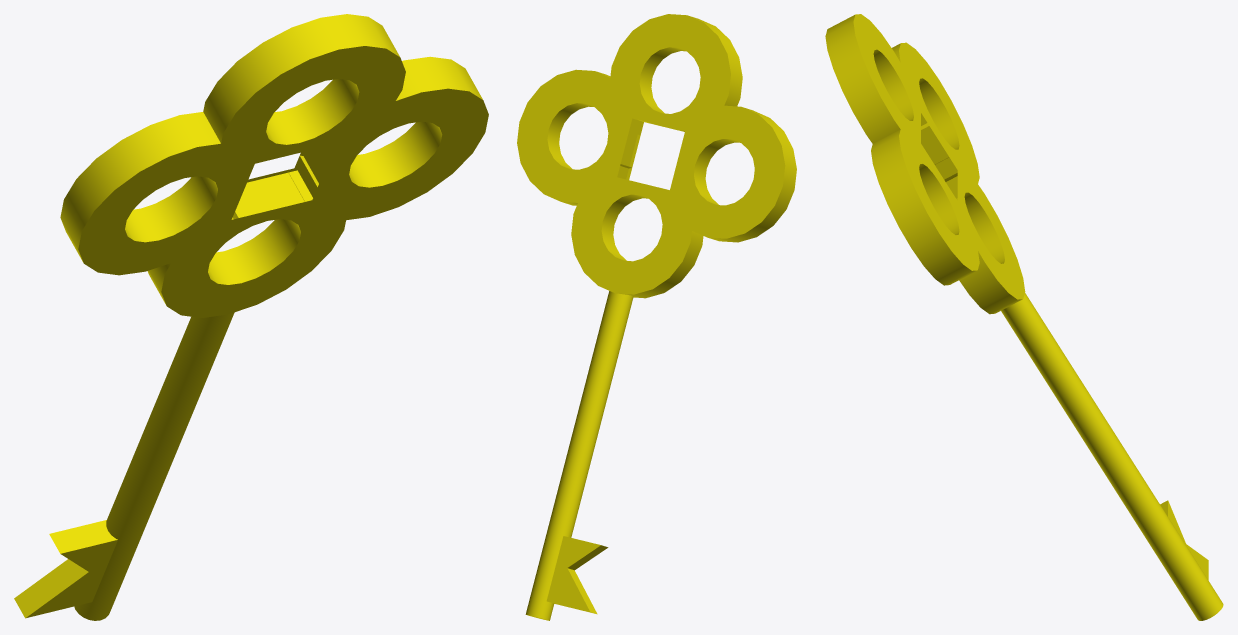
File: Key.fbx
The picture shows the model from 3 angles, left to right: view 1: azimuth 30°, elevation 25°; view 2: azimuth 150°, elevation 25°; view 3: azimuth 270°, elevation 25°; orthographic projection. The views are drawn at different scales.
Visible parts, largest first — view 1: pCube4; view 2: pCube4; view 3: pCube4.
Boxes of the visible parts, x1,y1,x2,y2 form: pCube4: (14,14,488,620); pCube4: (517,14,796,620); pCube4: (825,14,1223,620).
Size of the model in its own units: 1.35 by 2.44 by 1.48.
